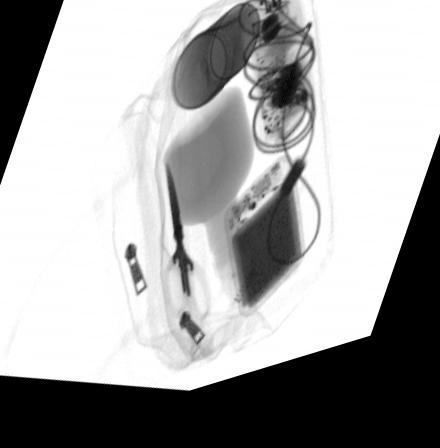Powerbank: (223, 169, 306, 334)
Scissors: (158, 166, 211, 333)
